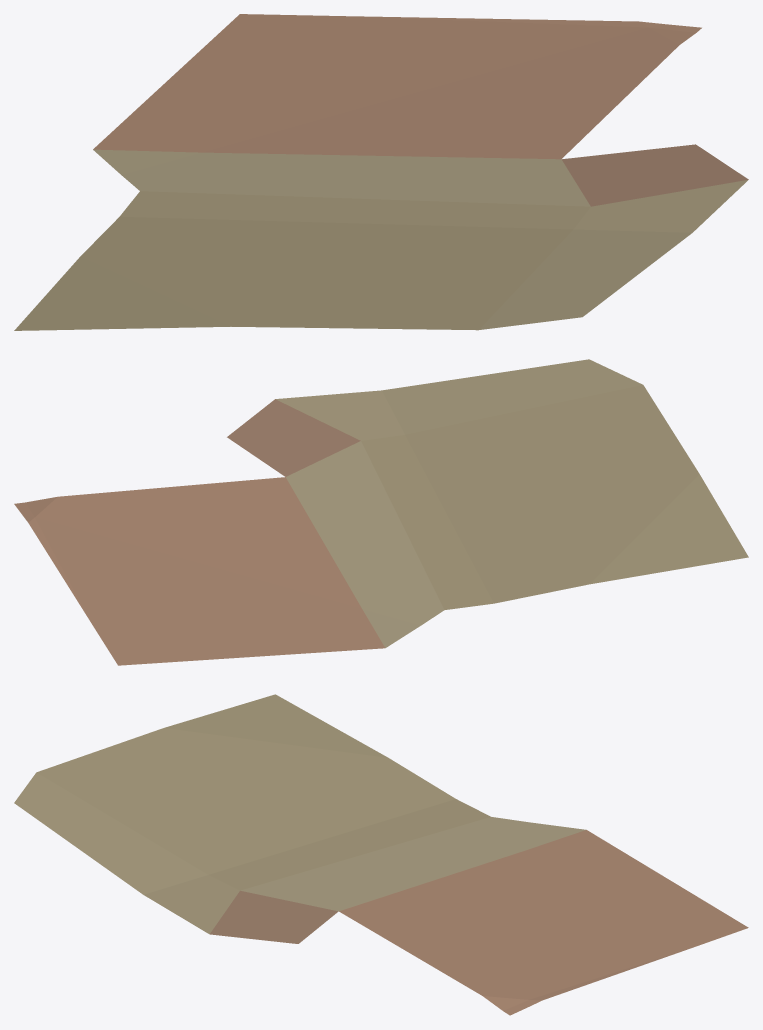
File: farm_-44_-53_soil.glb
3 views of the same model, one above another, from view 1: azimuth 30°, elevation 25°; view 2: azimuth 150°, elevation 25°; view 3: azimuth 270°, elevation 25° (orthographic). The views are drawn at different scales.
Visible parts, largest first — view 1: geometry_0; view 2: geometry_0; view 3: geometry_0.
Boxes of the visible parts, left/top/right/bottom form: geometry_0: left=14, top=14, right=748, bottom=330; geometry_0: left=14, top=359, right=748, bottom=665; geometry_0: left=14, top=694, right=748, bottom=1015.
Bounding box in the file's own units: 102 × 10.86 × 103.
